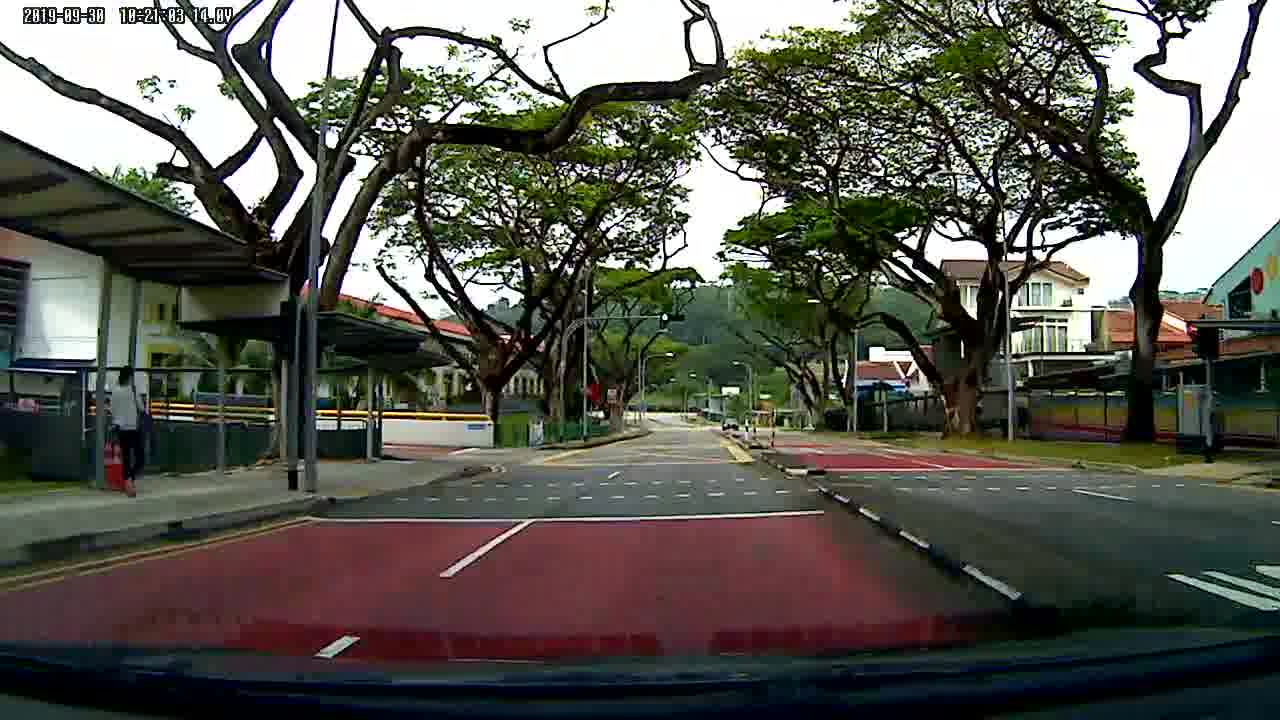car: (722, 416, 742, 433)
